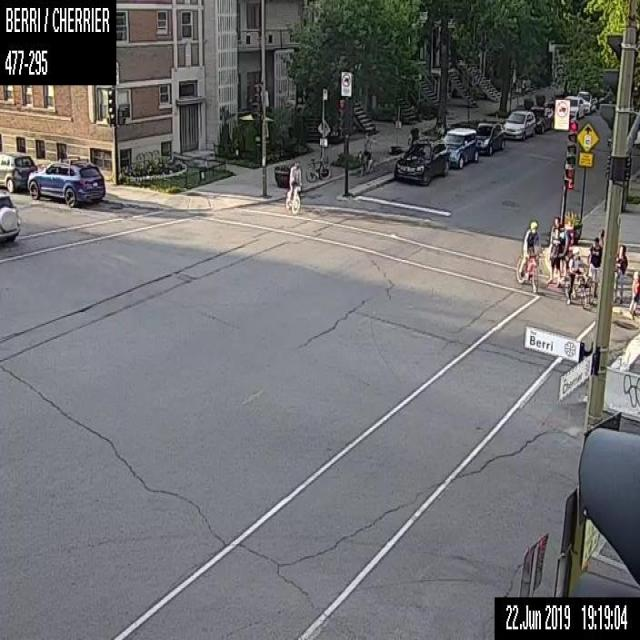cyclist: (563, 249, 592, 310), (516, 220, 540, 292), (285, 160, 301, 213), (356, 132, 373, 174)
pedestrian: (546, 215, 560, 286), (586, 236, 602, 298), (613, 243, 627, 304), (558, 223, 570, 288), (627, 270, 639, 318)
vehicle: (26, 156, 104, 208), (393, 137, 449, 185), (440, 127, 478, 168), (0, 152, 37, 190), (0, 188, 20, 243), (476, 122, 505, 156), (503, 110, 535, 140), (530, 106, 553, 134), (563, 95, 583, 119), (577, 90, 595, 112)
